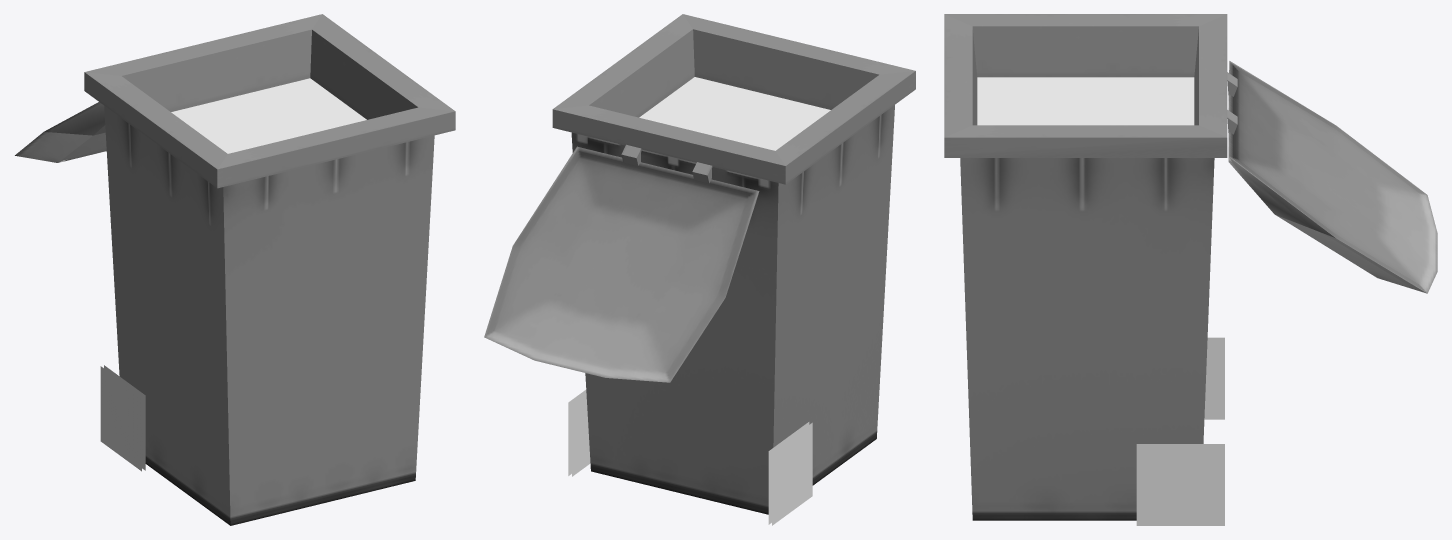
File: muelltonne_offen.fbx
3 views of the same model, side by side, from view 1: azimuth 30°, elevation 25°; view 2: azimuth 150°, elevation 25°; view 3: azimuth 270°, elevation 25° (orthographic). The views are drawn at different scales.
Visible parts, largest first — view 1: Mesh; view 2: Mesh; view 3: Mesh.
Part boxes in pixels (left/top/right/bottom): Mesh: left=15, top=14, right=455, bottom=525; Mesh: left=484, top=14, right=915, bottom=525; Mesh: left=944, top=14, right=1437, bottom=525.
Size of the model in its own units: 92 by 138 by 155.
